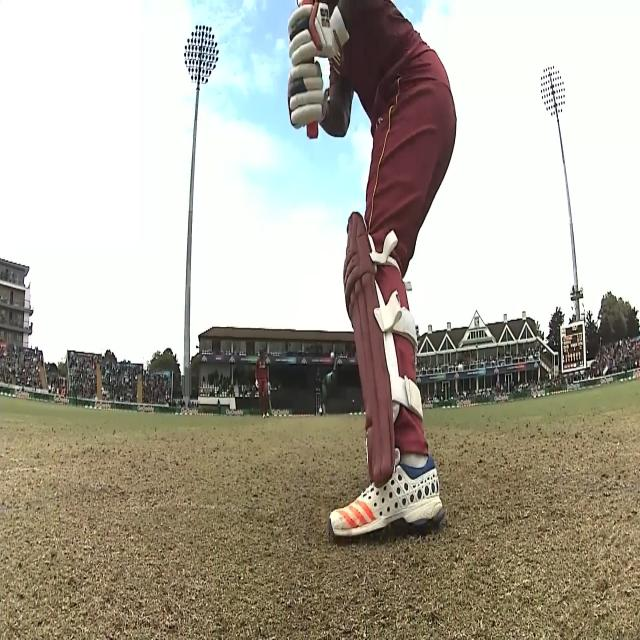ball: (330, 352, 335, 359)
